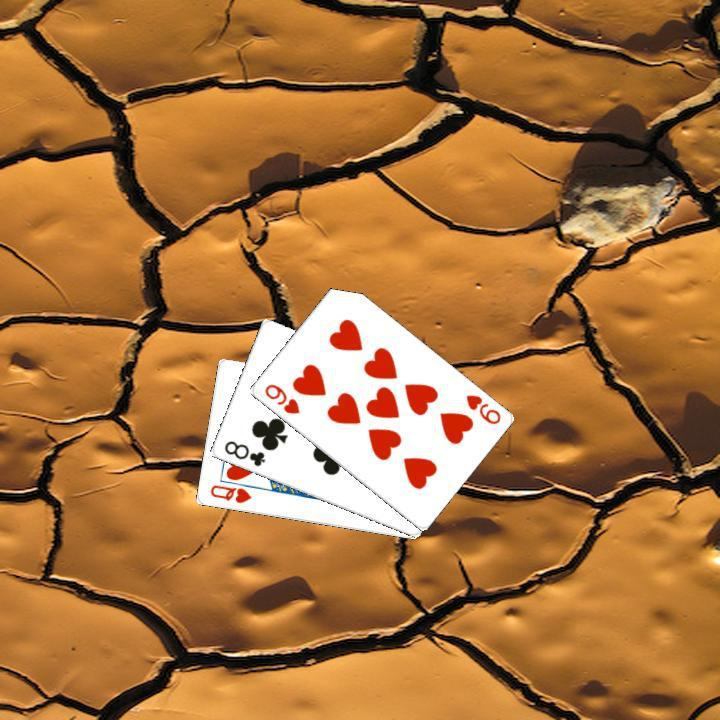8: (219, 436, 267, 469)
9: (260, 379, 301, 416), (461, 390, 503, 426)
Q: (205, 481, 253, 506)
